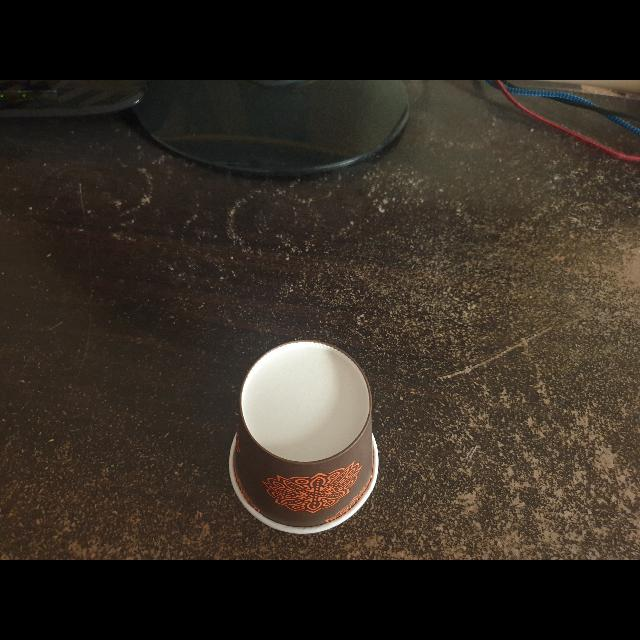trash: (226, 337, 388, 539)
